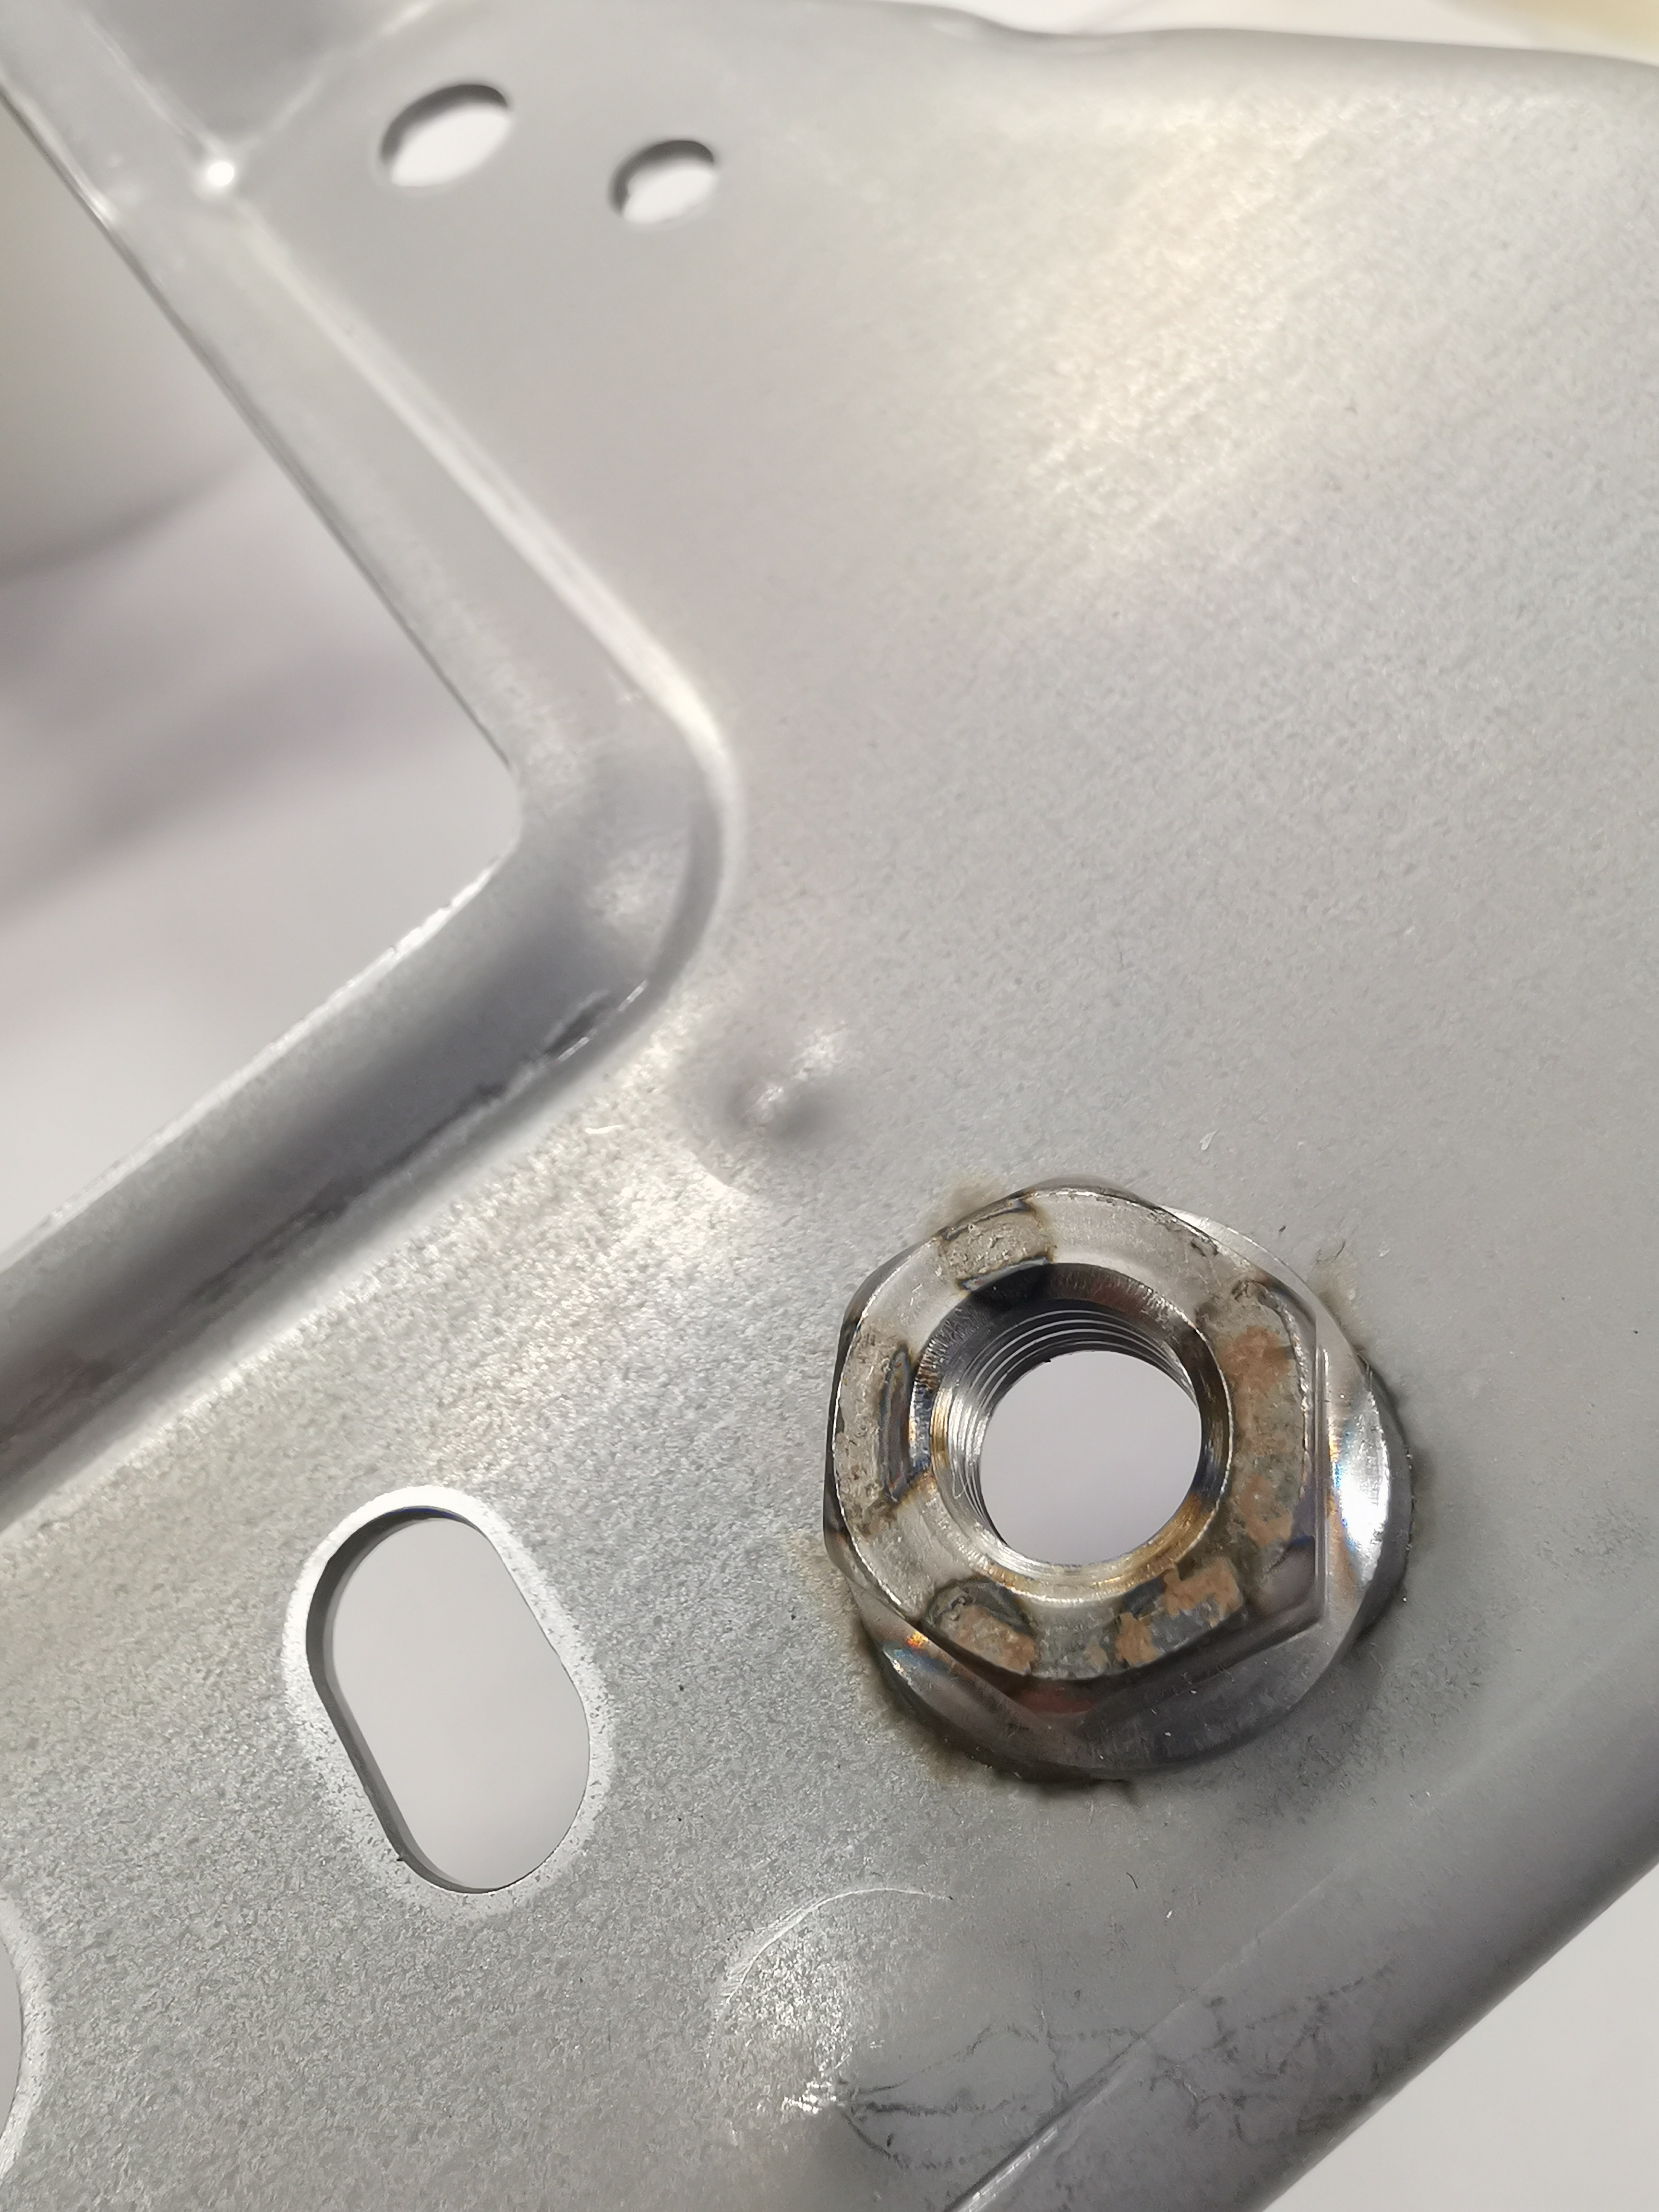dog: (812, 1160, 1431, 1801)
